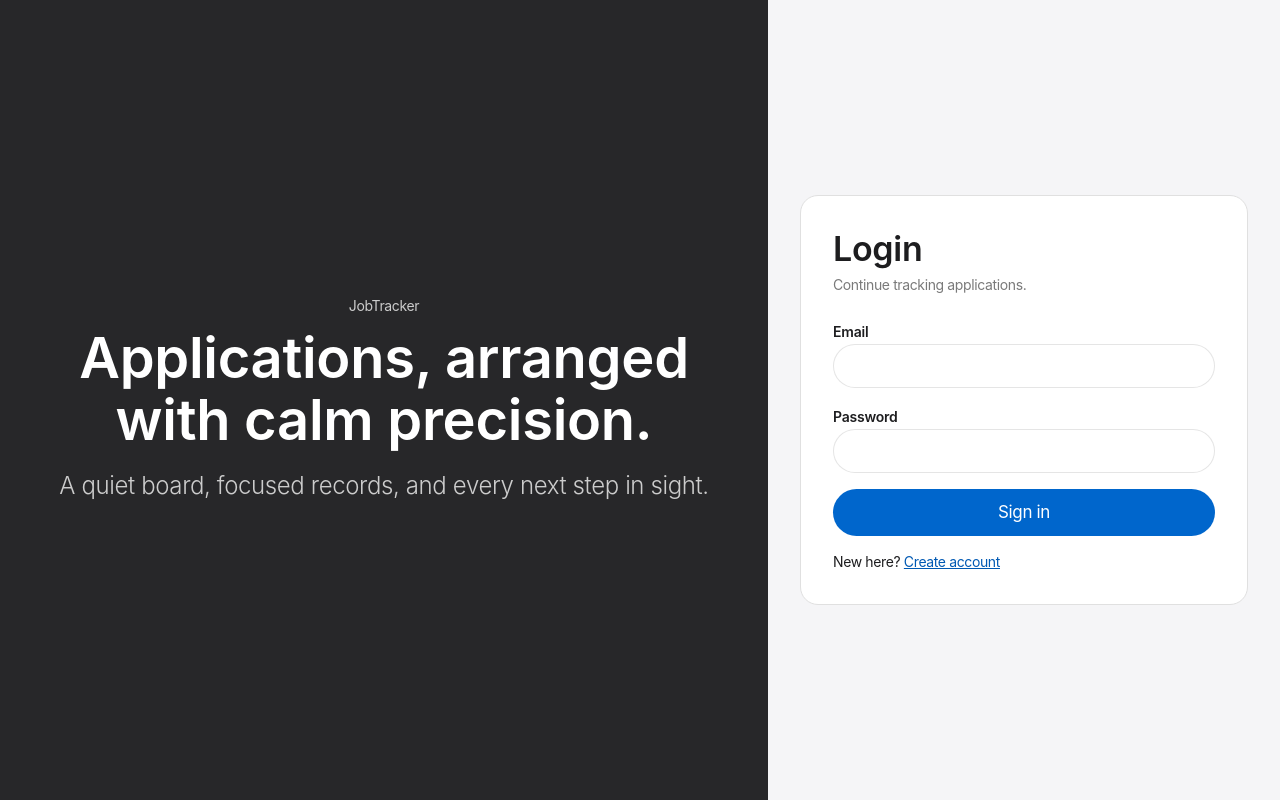
Test case: login form › shows the API error when credentials are rejected
Type "dev@example.com" into the field labelled "Email" at (1024, 366), box [833,344,1215,388]
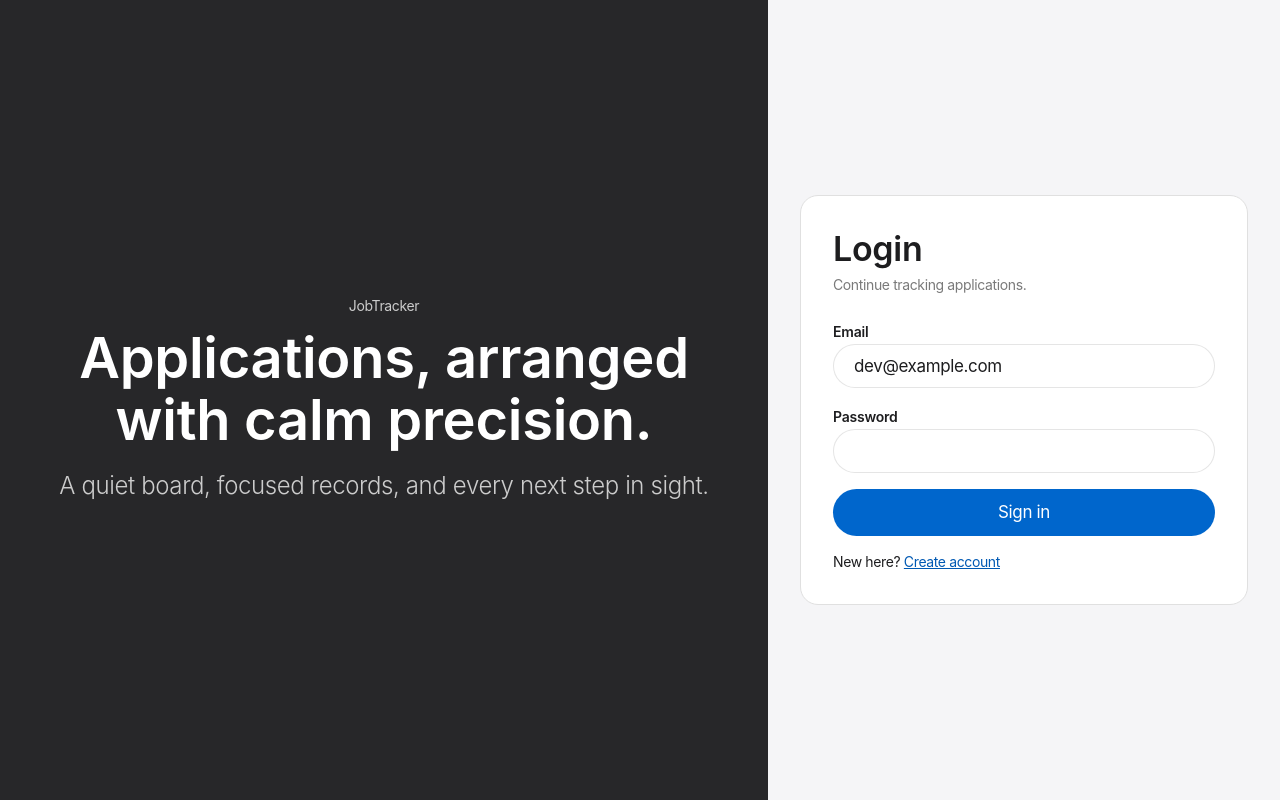
Type "wrongpassword" into the password field labelled "Password" at (1024, 451), box [833,429,1215,473]
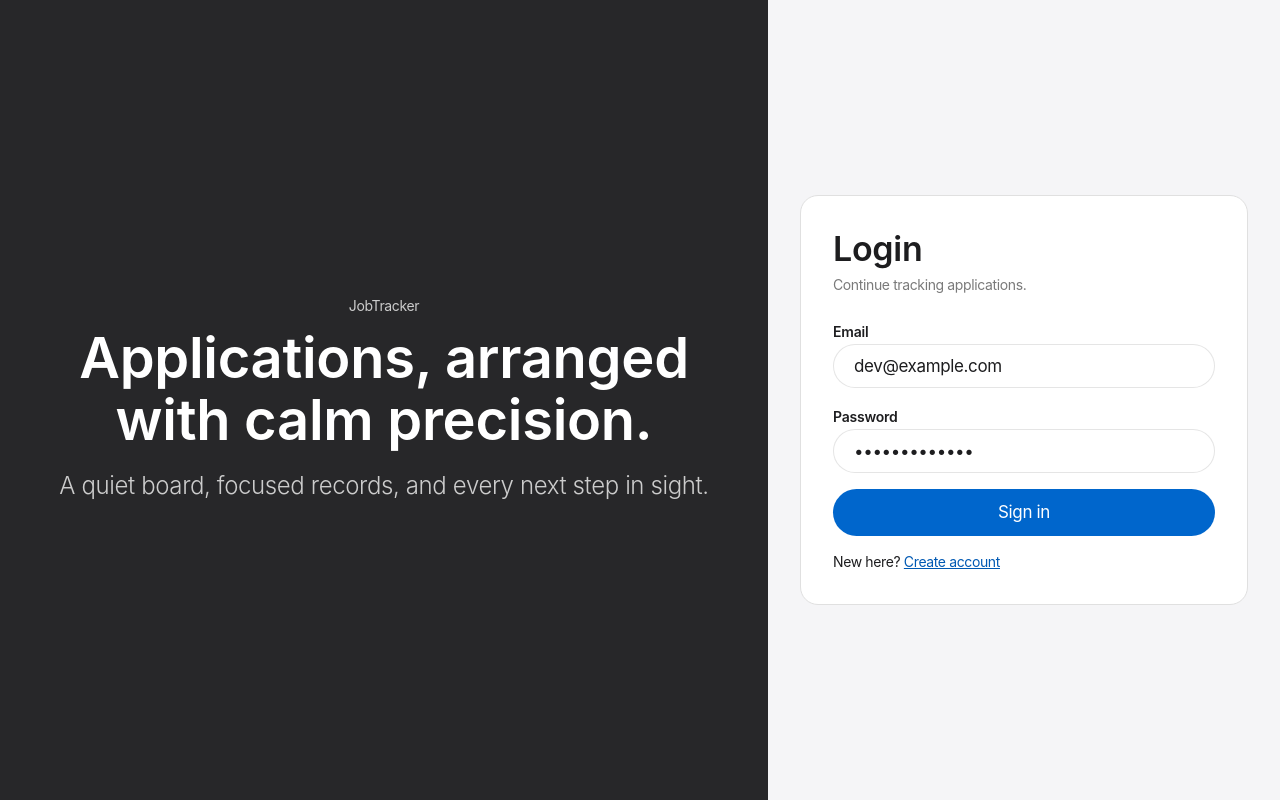
Click the button "Sign in" at (1024, 512), box [833,489,1215,536]
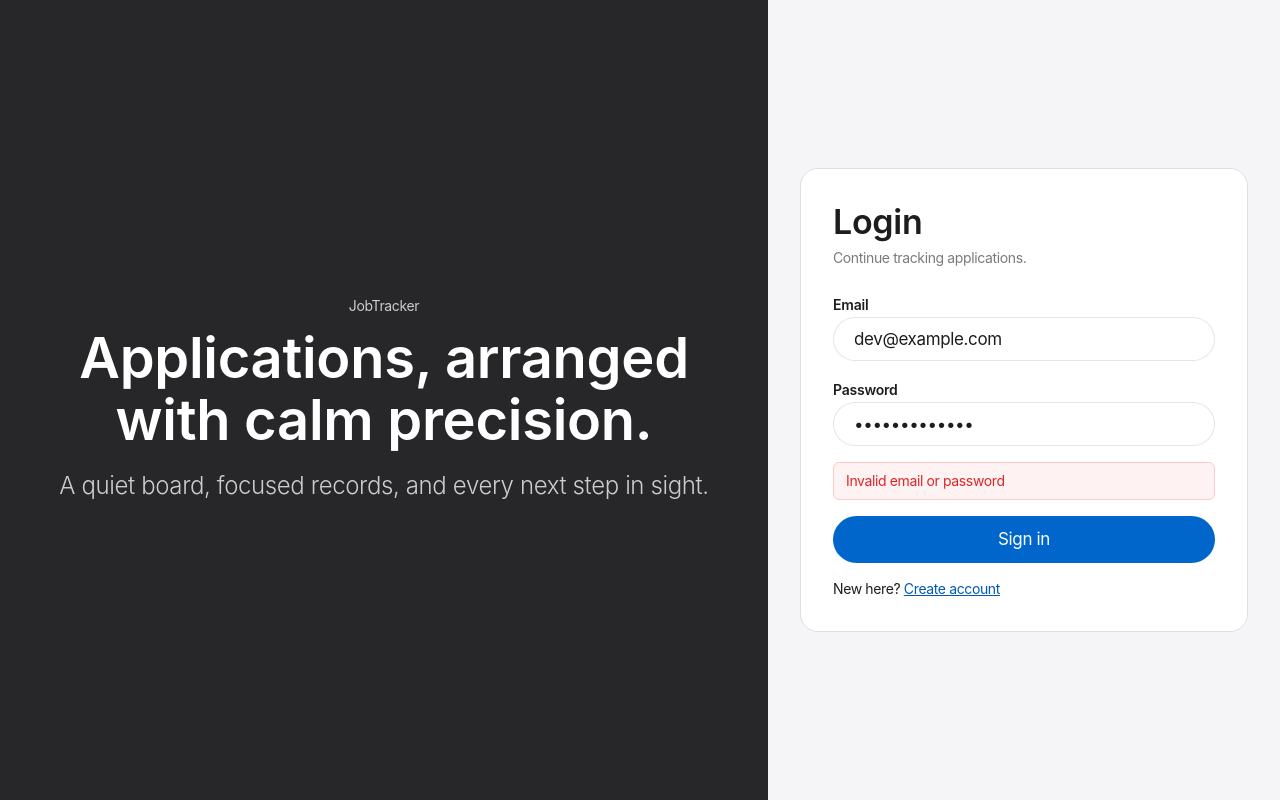
Now the message reads "Invalid email or password", box [846,472,1005,489]
